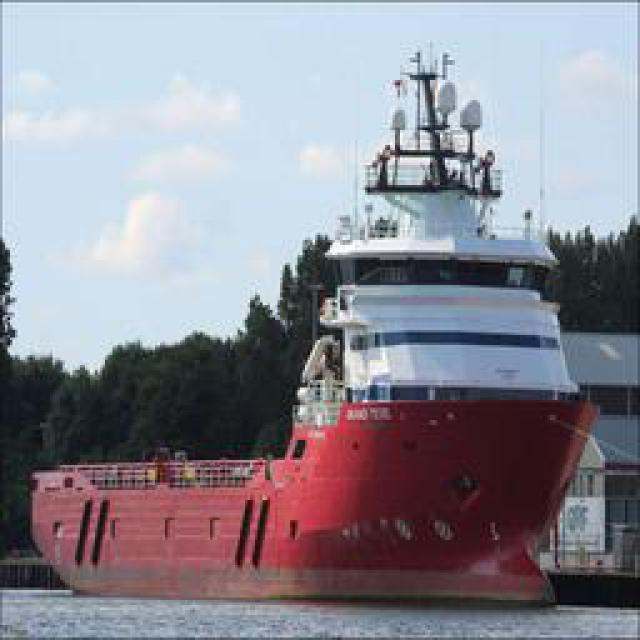Ship: (31, 200, 604, 610)
